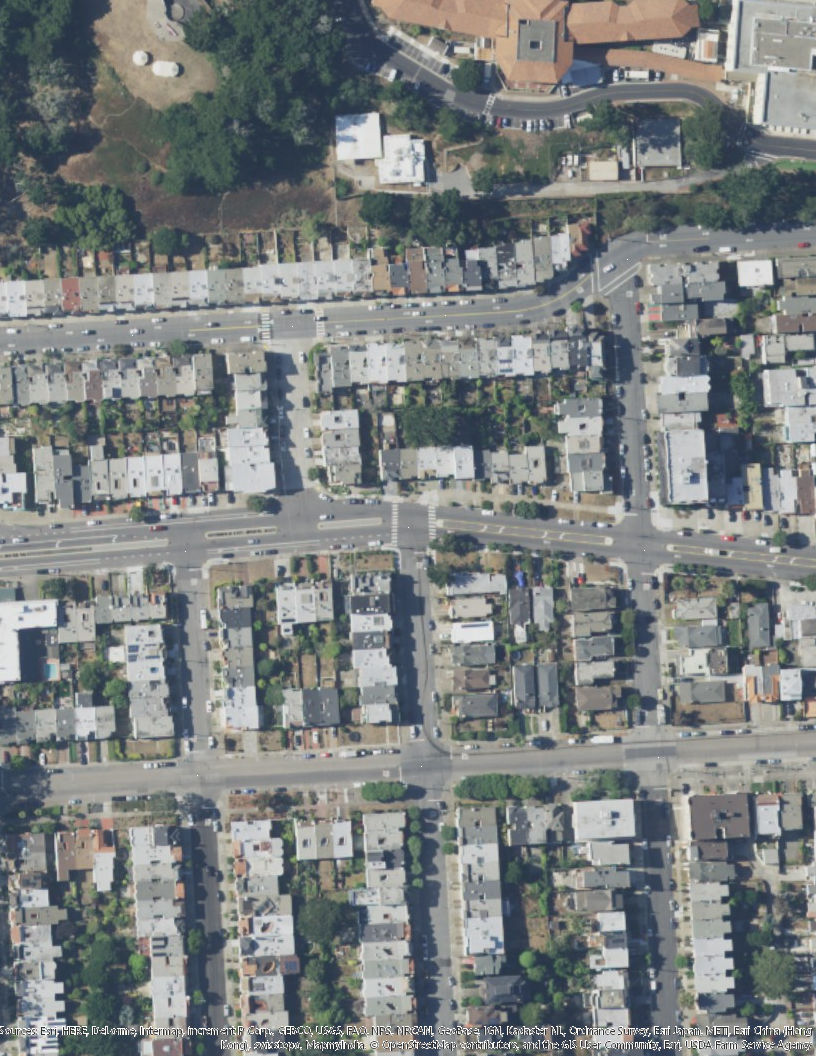zebracross: (427, 505, 437, 540), (260, 311, 272, 340), (314, 307, 326, 335), (391, 505, 398, 543)
